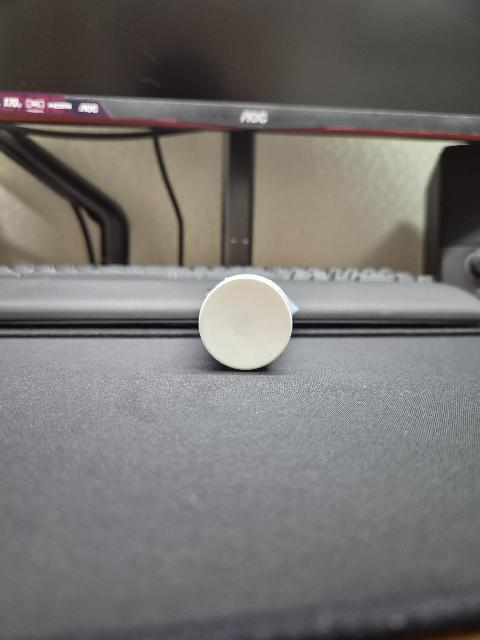handcream: (198, 273, 299, 370)
